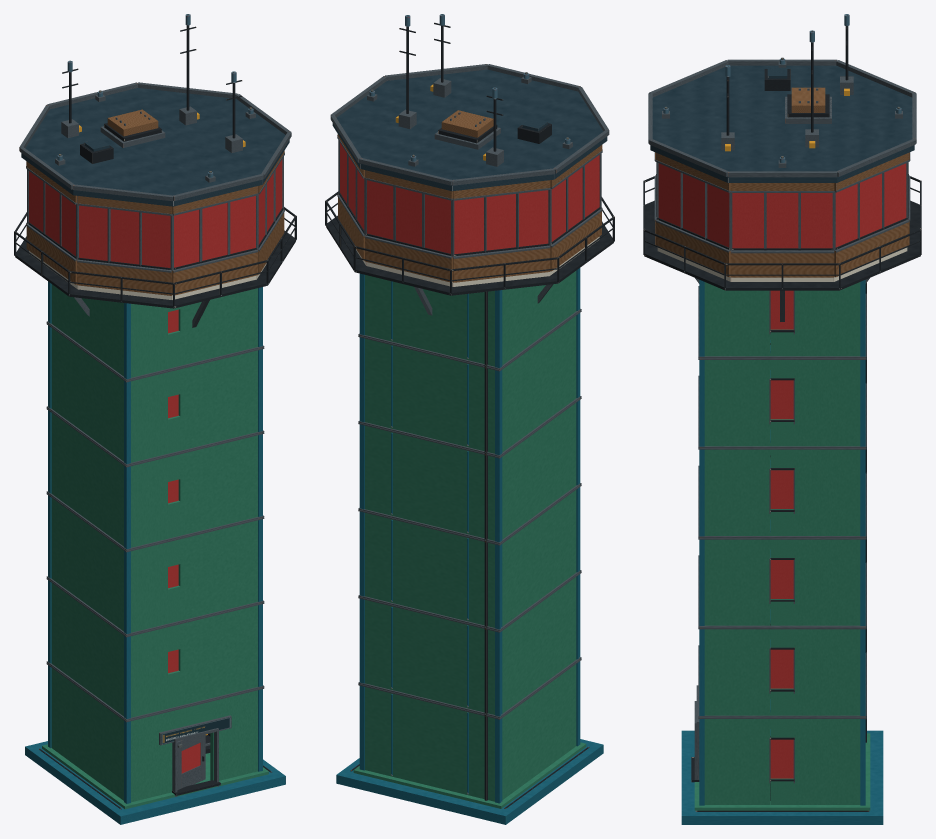
Rendered from PROJECT_Z_Airport_Control_Tower.glb.
3 views of the same model, side by side, from view 1: azimuth 30°, elevation 25°; view 2: azimuth 150°, elevation 25°; view 3: azimuth 270°, elevation 25° (orthographic). The views are drawn at different scales.
Visible parts, largest first — view 1: SM_Roof_Octagonal_5p77m_Deck_And_Parapet, SM_Module_04_ConcreteWallShell, SM_Module_03_ConcreteWallShell, SM_Module_01_ConcreteWallShell, SM_Module_02_ConcreteWallShell, SM_Module_00_ConcreteWallShell, SM_Cab_Panoramic_Glass_24_Separate_Panes, SM_Module_05_ConcreteWallShell, SM_Cab_Octagonal_Spandreled_Facade_Panels, Foundation_8p15m_Footing, SM_Cab_Perimeter_ServiceCatwalk_0p6m, SM_Cab_Glass_Mullions_And_Lintel_Frames (+15 smaller); view 2: SM_Roof_Octagonal_5p77m_Deck_And_Parapet, SM_Module_04_ConcreteWallShell, SM_Module_01_ConcreteWallShell, SM_Module_03_ConcreteWallShell, SM_Module_02_ConcreteWallShell, SM_Module_00_ConcreteWallShell, SM_Cab_Panoramic_Glass_24_Separate_Panes, SM_Module_05_ConcreteWallShell, SM_Cab_Octagonal_Spandreled_Facade_Panels, Foundation_8p15m_Footing, SM_Module_01_EdgeRevealsAndPipes, SM_Module_02_EdgeRevealsAndPipes (+12 smaller); view 3: SM_Roof_Octagonal_5p77m_Deck_And_Parapet, SM_Cab_Panoramic_Glass_24_Separate_Panes, SM_Module_01_ConcreteWallShell, SM_Module_04_ConcreteWallShell, SM_Module_02_ConcreteWallShell, SM_Module_03_ConcreteWallShell, SM_Module_00_ConcreteWallShell, SM_Module_05_ConcreteWallShell, SM_Cab_Octagonal_Spandreled_Facade_Panels, Foundation_8p15m_Footing, SM_Cab_Perimeter_ServiceCatwalk_0p6m, SM_Cab_Glass_Mullions_And_Lintel_Frames (+18 smaller).
Part boxes in pixels (bbox=[...]): SM_Roof_Octagonal_5p77m_Deck_And_Parapet: bbox=[19, 82, 291, 206]; SM_Module_04_ConcreteWallShell: bbox=[51, 328, 257, 462]; SM_Module_03_ConcreteWallShell: bbox=[51, 413, 257, 547]; SM_Module_01_ConcreteWallShell: bbox=[51, 583, 257, 717]; SM_Module_02_ConcreteWallShell: bbox=[51, 498, 257, 632]; SM_Module_00_ConcreteWallShell: bbox=[51, 668, 257, 802]; SM_Cab_Panoramic_Glass_24_Separate_Panes: bbox=[29, 159, 282, 267]; SM_Module_05_ConcreteWallShell: bbox=[51, 284, 257, 377]; SM_Cab_Octagonal_Spandreled_Facade_Panels: bbox=[26, 151, 284, 295]; Foundation_8p15m_Footing: bbox=[25, 741, 285, 824]; SM_Cab_Perimeter_ServiceCatwalk_0p6m: bbox=[15, 230, 295, 308]; SM_Cab_Glass_Mullions_And_Lintel_Frames: bbox=[27, 157, 283, 270]; SM_Roof_Octagonal_5p77m_Deck_And_Parapet: bbox=[330, 64, 609, 191]; SM_Module_04_ConcreteWallShell: bbox=[365, 316, 576, 453]; SM_Module_01_ConcreteWallShell: bbox=[365, 577, 576, 714]; SM_Module_03_ConcreteWallShell: bbox=[365, 403, 576, 540]; SM_Module_02_ConcreteWallShell: bbox=[365, 490, 576, 627]; SM_Module_00_ConcreteWallShell: bbox=[365, 664, 576, 801]; SM_Cab_Panoramic_Glass_24_Separate_Panes: bbox=[340, 143, 599, 254]; SM_Module_05_ConcreteWallShell: bbox=[365, 271, 576, 366]; SM_Cab_Octagonal_Spandreled_Facade_Panels: bbox=[337, 134, 602, 282]; Foundation_8p15m_Footing: bbox=[336, 739, 603, 824]; SM_Module_01_EdgeRevealsAndPipes: bbox=[358, 572, 581, 718]; SM_Module_02_EdgeRevealsAndPipes: bbox=[358, 484, 581, 631]; SM_Roof_Octagonal_5p77m_Deck_And_Parapet: bbox=[648, 59, 916, 182]; SM_Cab_Panoramic_Glass_24_Separate_Panes: bbox=[658, 163, 906, 248]; SM_Module_01_ConcreteWallShell: bbox=[704, 604, 860, 715]; SM_Module_04_ConcreteWallShell: bbox=[704, 334, 860, 446]; SM_Module_02_ConcreteWallShell: bbox=[704, 514, 860, 625]; SM_Module_03_ConcreteWallShell: bbox=[704, 424, 860, 535]; SM_Module_00_ConcreteWallShell: bbox=[704, 694, 860, 804]; SM_Module_05_ConcreteWallShell: bbox=[704, 282, 860, 356]; SM_Cab_Octagonal_Spandreled_Facade_Panels: bbox=[654, 152, 910, 277]; Foundation_8p15m_Footing: bbox=[681, 730, 883, 824]; SM_Cab_Perimeter_ServiceCatwalk_0p6m: bbox=[644, 200, 920, 290]; SM_Cab_Glass_Mullions_And_Lintel_Frames: bbox=[656, 162, 908, 250].
Size of the model in its own units: 11.23 by 34.51 by 11.23.
Materials: 3 (3 with a texture image).
